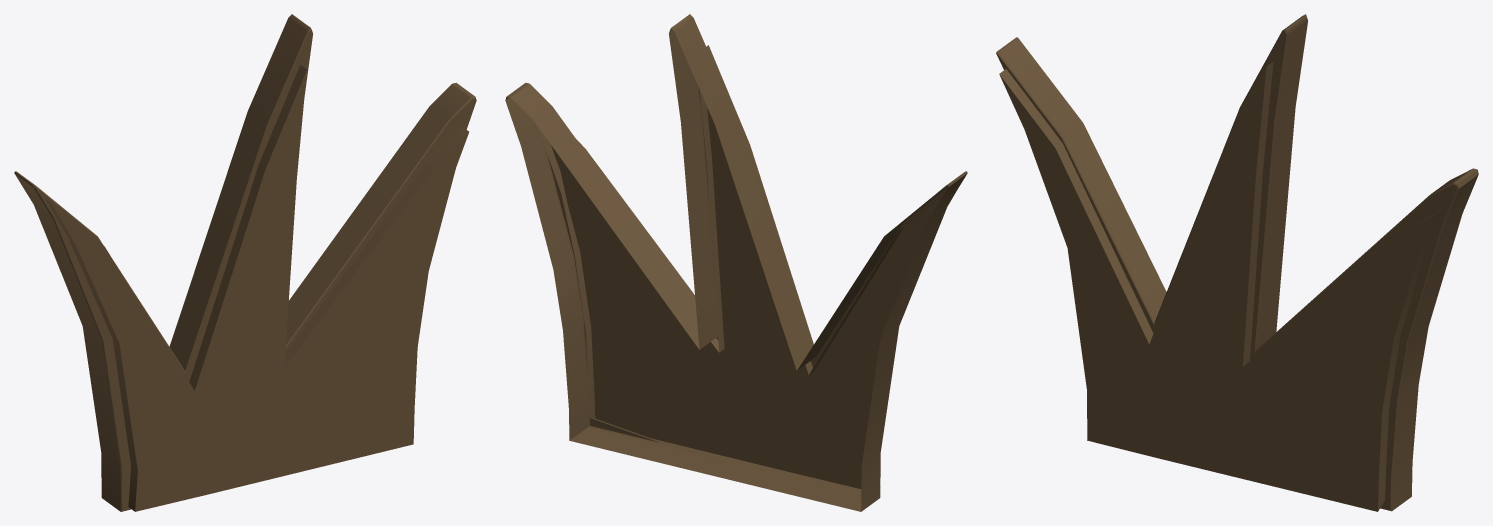
File: grass.fbx
3 views of the same model, side by side, from view 1: azimuth 30°, elevation 25°; view 2: azimuth 150°, elevation 25°; view 3: azimuth 330°, elevation 25° (orthographic). The views are drawn at different scales.
Visible parts, largest first — view 1: pPlane2, pPlane1; view 2: pPlane1, pPlane2; view 3: pPlane2, pPlane1.
Boxes of the visible parts, x1,y1,x2,y2 form: pPlane2: (44, 65, 468, 511); pPlane1: (14, 14, 476, 511); pPlane1: (505, 14, 967, 511); pPlane2: (538, 45, 952, 494); pPlane2: (999, 61, 1442, 511); pPlane1: (996, 14, 1478, 511).
Bounding box in the file's own units: 2.91 × 2.75 × 0.3006.
